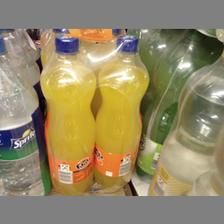Soda: (38, 34, 94, 194), (95, 34, 149, 188), (0, 38, 48, 194)
